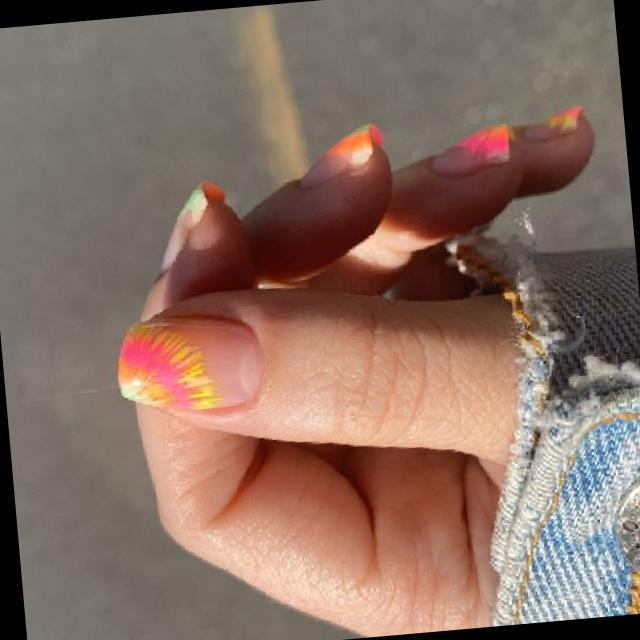Nail: (117, 316, 259, 410), (162, 180, 224, 269), (298, 124, 382, 188), (432, 123, 510, 175), (523, 104, 582, 140)
